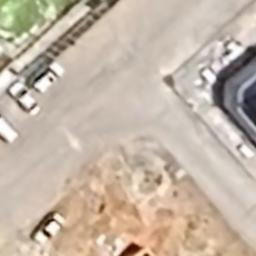sedan: (5, 80, 42, 118), (30, 212, 66, 246)
van: (34, 60, 64, 96)
